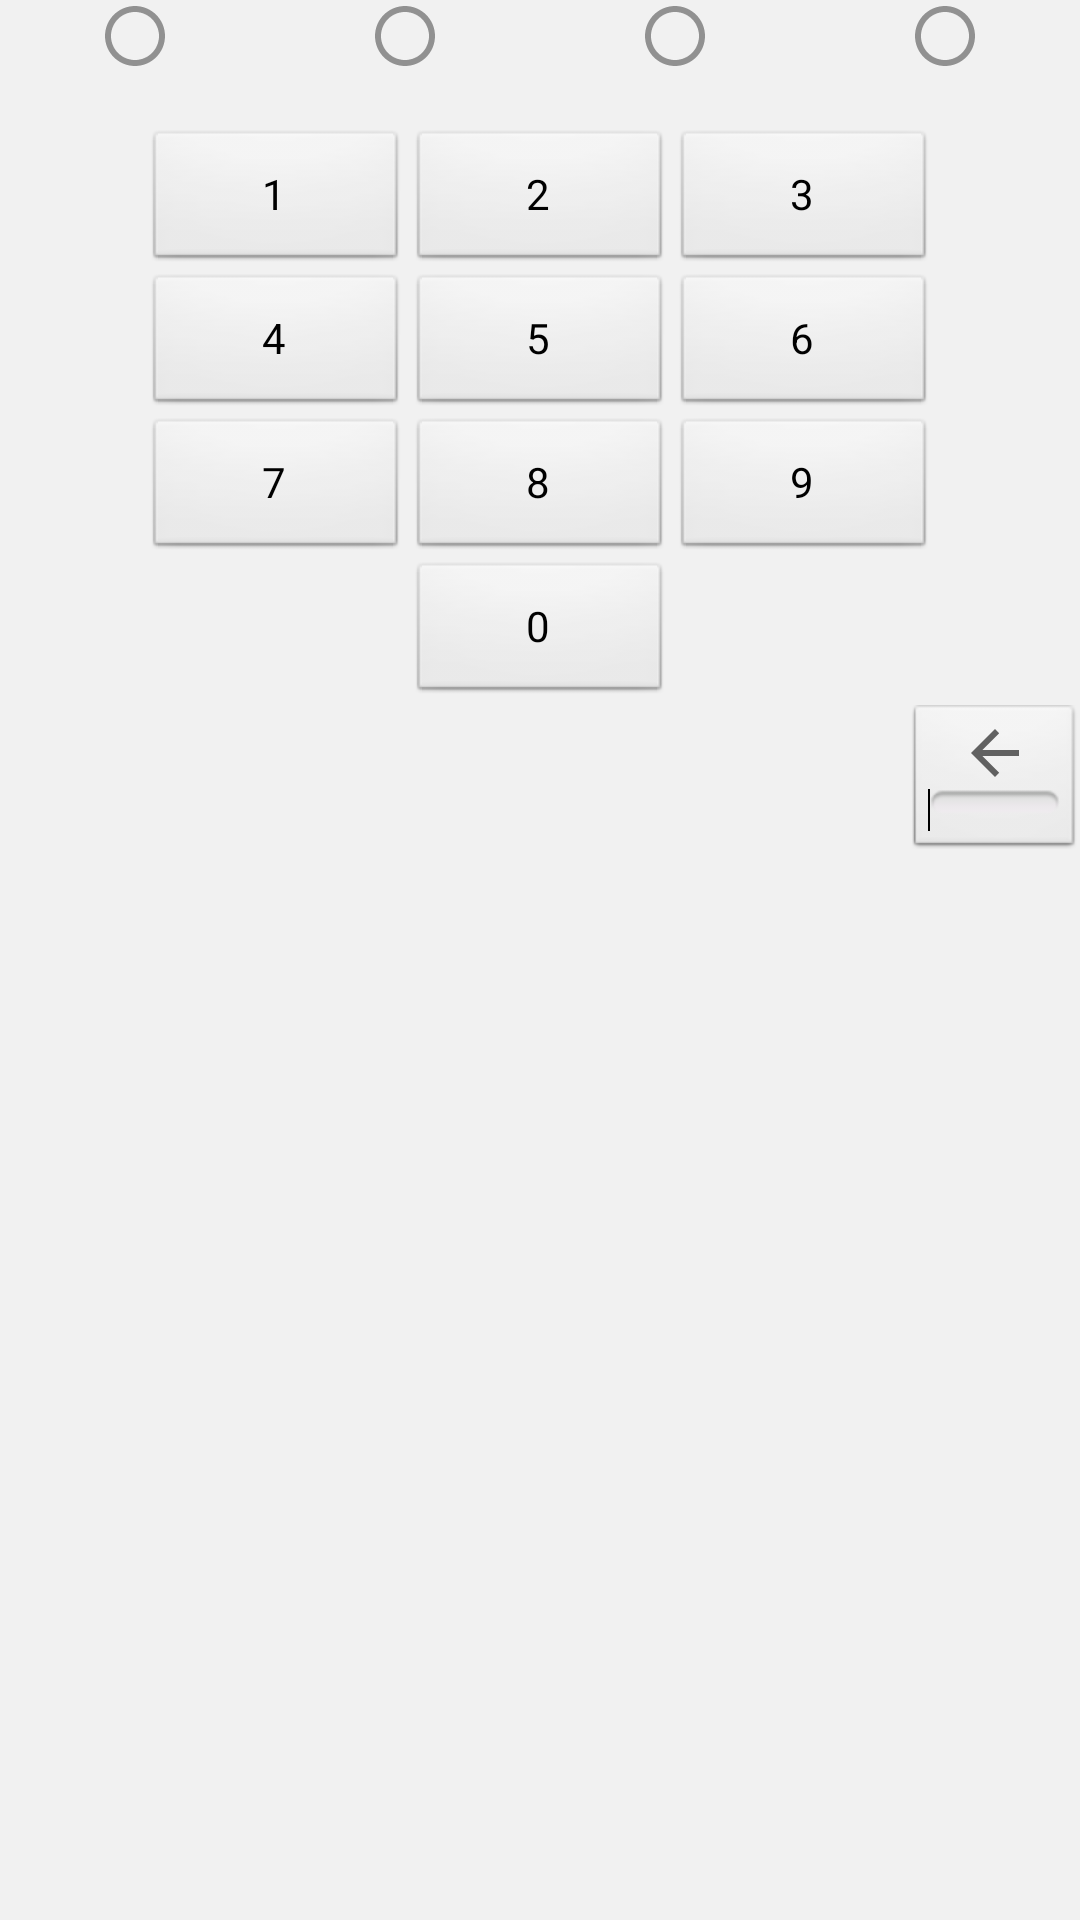

Where icons sit on this 1080 x 1920 app screen, as detection(x1, y1, x2, y2):
radio unchecked: detection(105, 6, 165, 66), detection(375, 6, 435, 66), detection(645, 6, 705, 66), detection(915, 6, 975, 66)
